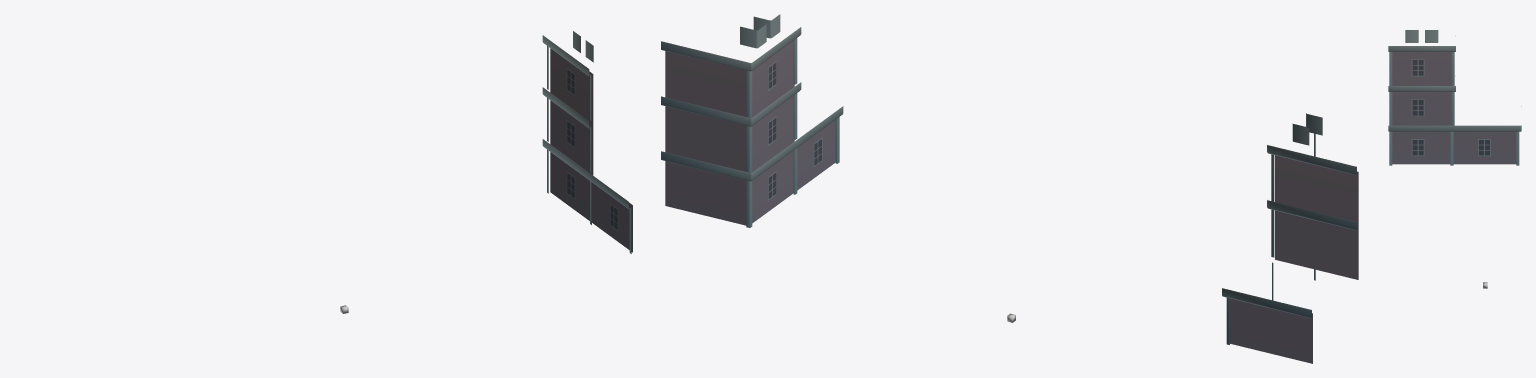
The model's file is FarBackBuilding02.glb.
3 renders of one model, left to right at view 1: azimuth 30°, elevation 25°; view 2: azimuth 150°, elevation 25°; view 3: azimuth 270°, elevation 25°, orthographic. The views are drawn at different scales.
Parts seen in each view (by area): view 1: FarBackBuilding02; view 2: FarBackBuilding02; view 3: FarBackBuilding02.
Boxes of the visible parts, x1,y1,x2,y2 form: FarBackBuilding02: (340, 31, 632, 313); FarBackBuilding02: (661, 14, 1358, 363); FarBackBuilding02: (1388, 30, 1521, 288).
Bounding box in the file's own units: 76.34 × 26.28 × 18.69.
